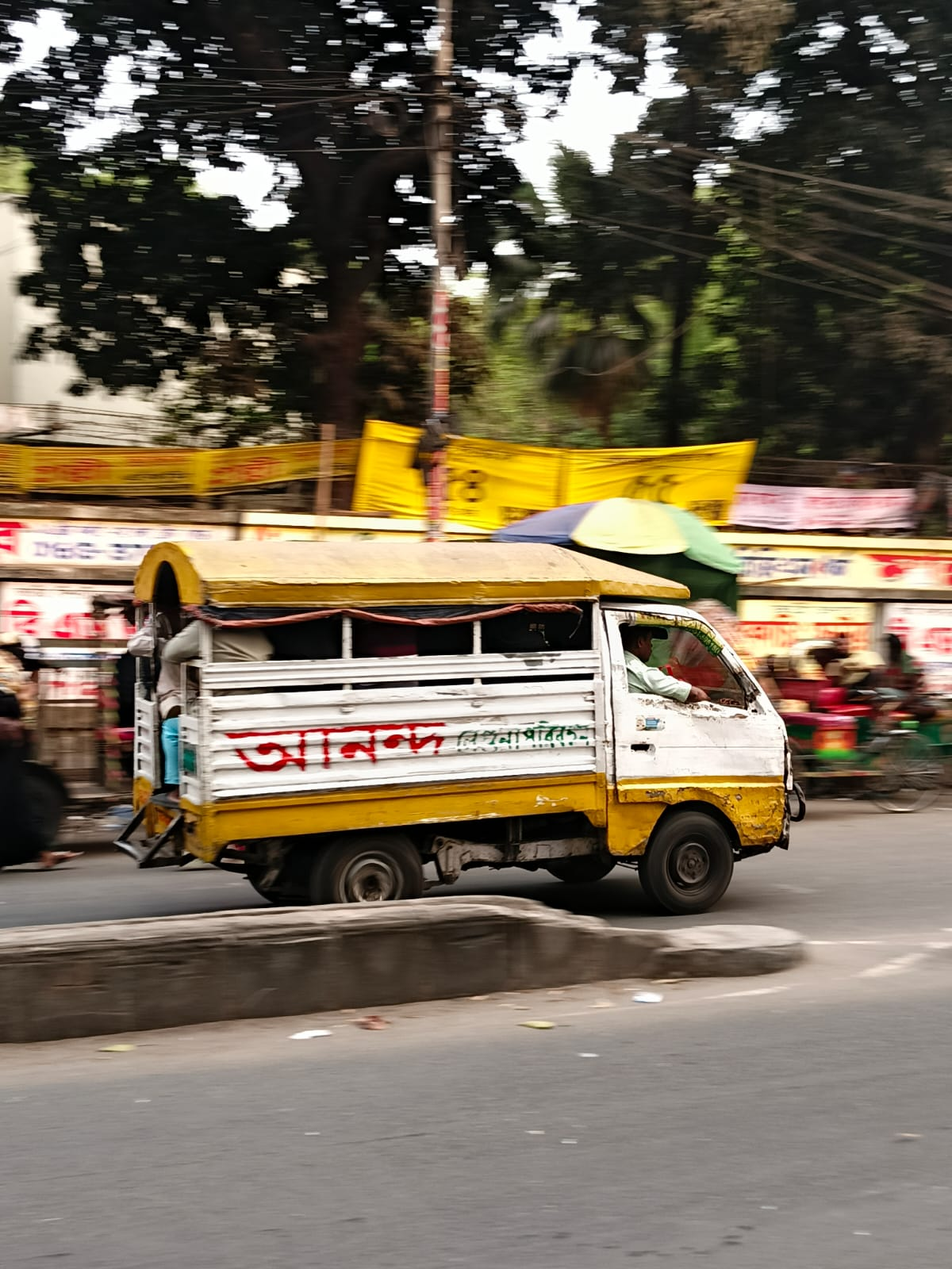Leguna: (82, 492, 886, 995)
auto-ricksaw: (801, 582, 952, 834)
